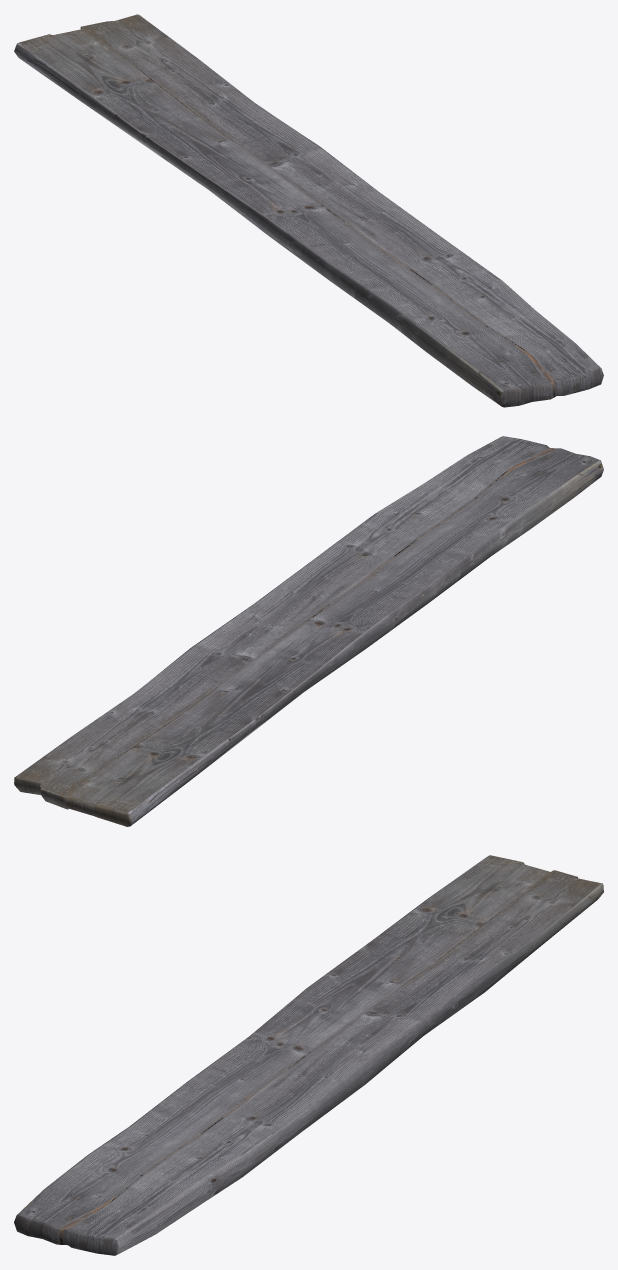
The model's file is sm_WoodPlank_02_01.fbx.
3 renders of one model, top to bottom at view 1: azimuth 30°, elevation 25°; view 2: azimuth 150°, elevation 25°; view 3: azimuth 330°, elevation 25°, orthographic.
Parts seen in each view (by area): view 1: sm_WoodPlank_02_01_LOD0; view 2: sm_WoodPlank_02_01_LOD0; view 3: sm_WoodPlank_02_01_LOD0.
Part boxes in pixels (x1=…): sm_WoodPlank_02_01_LOD0: x1=14, y1=14, x2=603, y2=407; sm_WoodPlank_02_01_LOD0: x1=14, y1=436, x2=603, y2=826; sm_WoodPlank_02_01_LOD0: x1=14, y1=855, x2=603, y2=1255.
Bounding box in the file's own units: 30.43 × 199 × 6.05.
